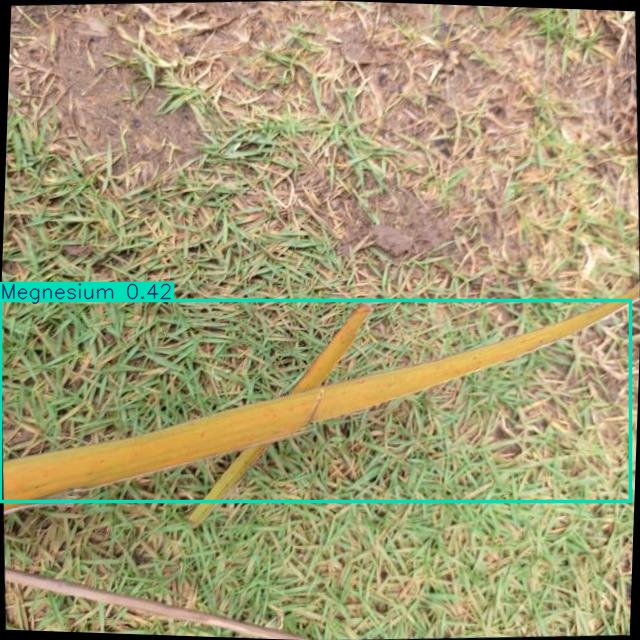Megnesium: (0, 301, 630, 501)
